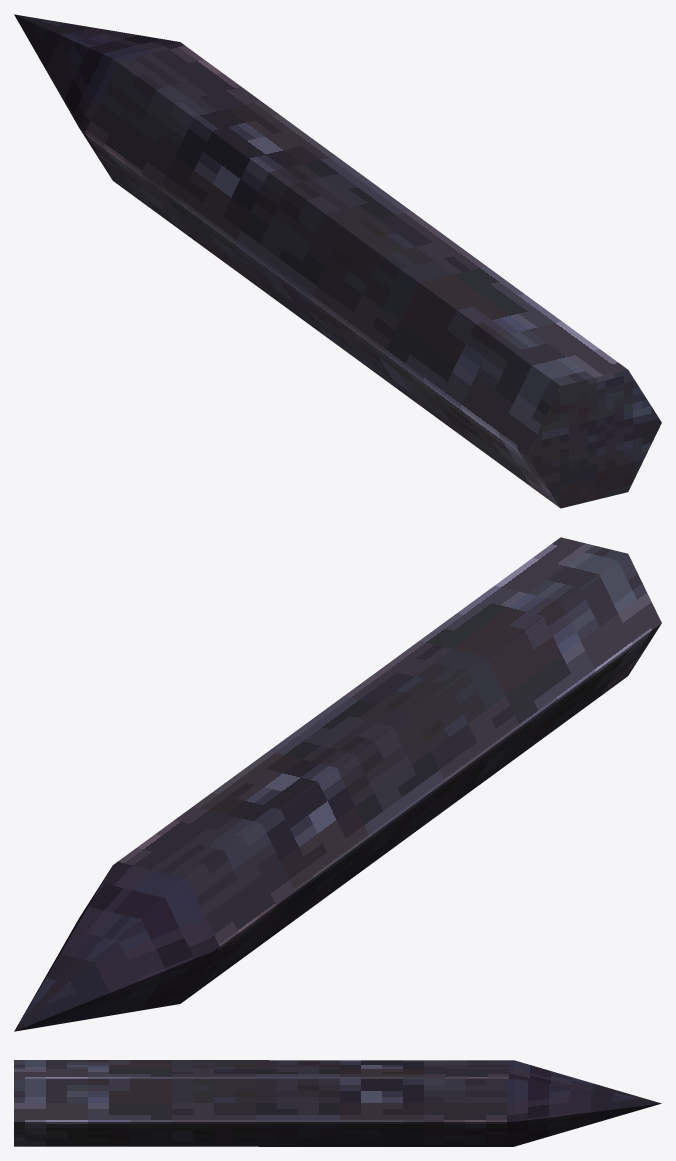
File: st_lead.glb
The picture shows the model from 3 angles, top to bottom: view 1: azimuth 30°, elevation 25°; view 2: azimuth 150°, elevation 25°; view 3: azimuth 270°, elevation 25°; orthographic projection. The views are drawn at different scales.
Visible parts, largest first — view 1: st_lead; view 2: st_lead; view 3: st_lead.
Boxes of the visible parts, <box> form: st_lead: <box>14,14,661,508</box>; st_lead: <box>14,537,661,1031</box>; st_lead: <box>14,1060,661,1146</box>.
Bounding box in the file's own units: 0.0133 × 0.0115 × 0.0992.
1 material, 1 textured.
